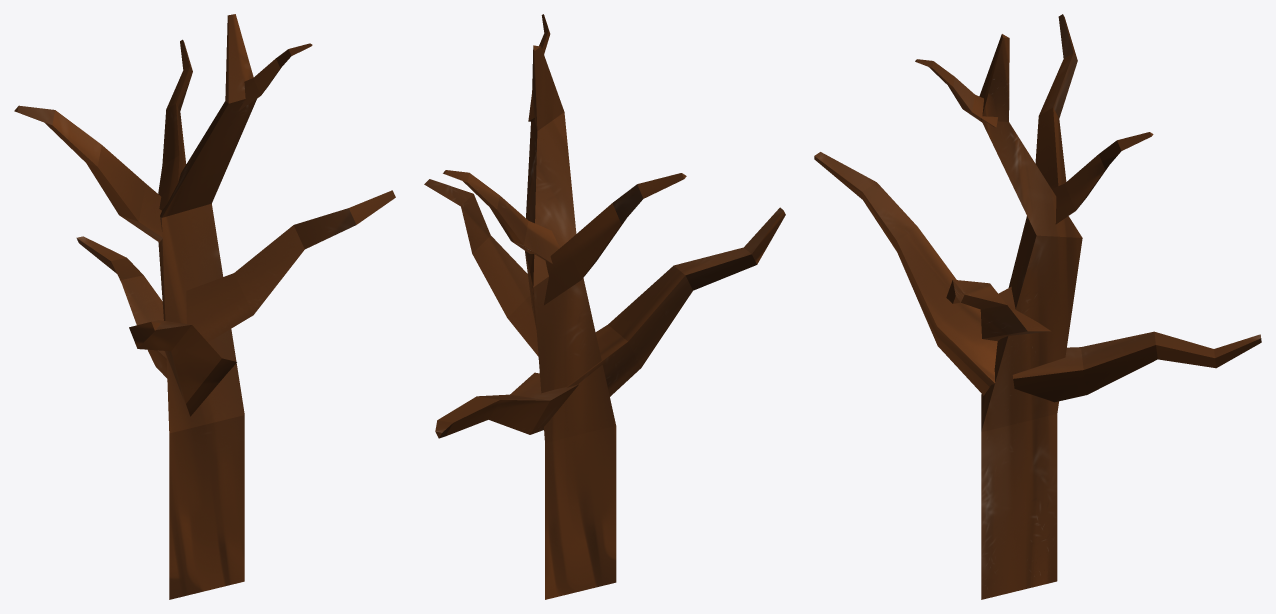
The model's file is tree_without_leaves.obj.
3 views of the same model, side by side, from view 1: azimuth 30°, elevation 25°; view 2: azimuth 150°, elevation 25°; view 3: azimuth 270°, elevation 25° (orthographic). The views are drawn at different scales.
Parts seen in each view (by area): view 1: Cylinder.006; view 2: Cylinder.006; view 3: Cylinder.006.
Boxes of the visible parts, box(x1,y1,x2,y2) form: Cylinder.006: box(14, 14, 395, 599); Cylinder.006: box(424, 14, 785, 599); Cylinder.006: box(814, 14, 1261, 599).
Size of the model in its own units: 7.51 by 12.25 by 8.82.
Materials: 1 (1 with a texture image).
